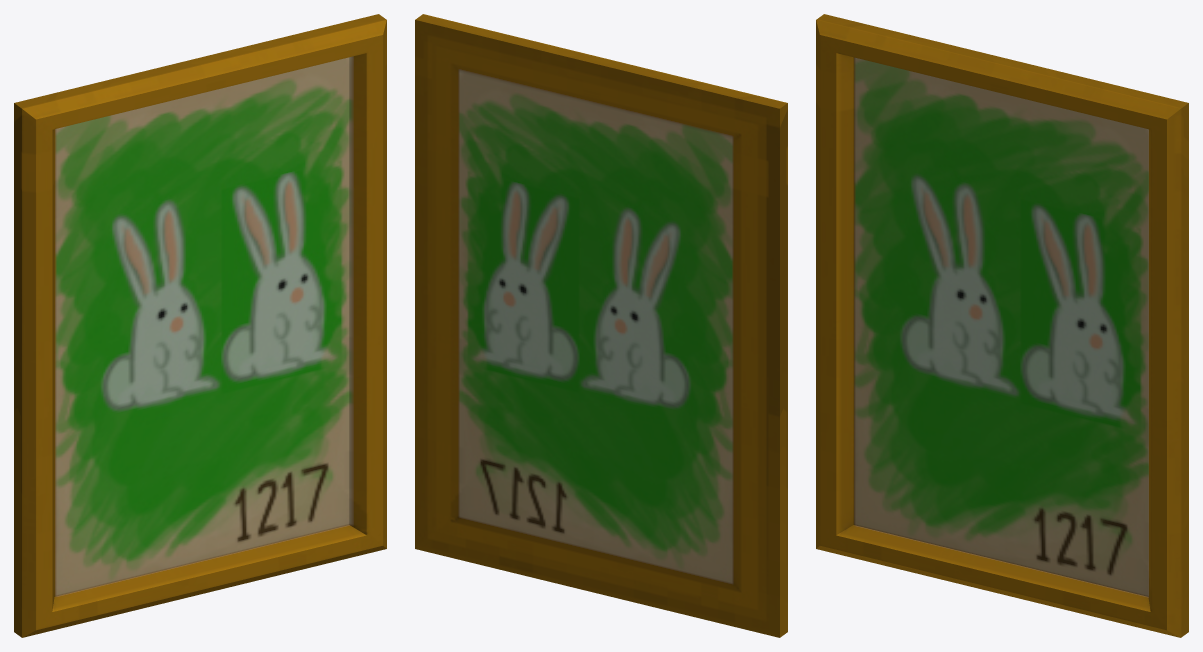
Rendered from painting02_model.glb.
3 renders of one model, left to right at view 1: azimuth 30°, elevation 25°; view 2: azimuth 150°, elevation 25°; view 3: azimuth 330°, elevation 25°, orthographic.
Parts seen in each view (by area): view 1: picture02_t8; view 2: picture02_t8; view 3: picture02_t8.
Part boxes in pixels (x1,y1,x2,y2): picture02_t8: (14, 14, 386, 637); picture02_t8: (415, 14, 787, 637); picture02_t8: (816, 14, 1188, 637).
Bounding box in the file's own units: 2.43 × 3.38 × 0.1509.
1 material, 1 textured.
